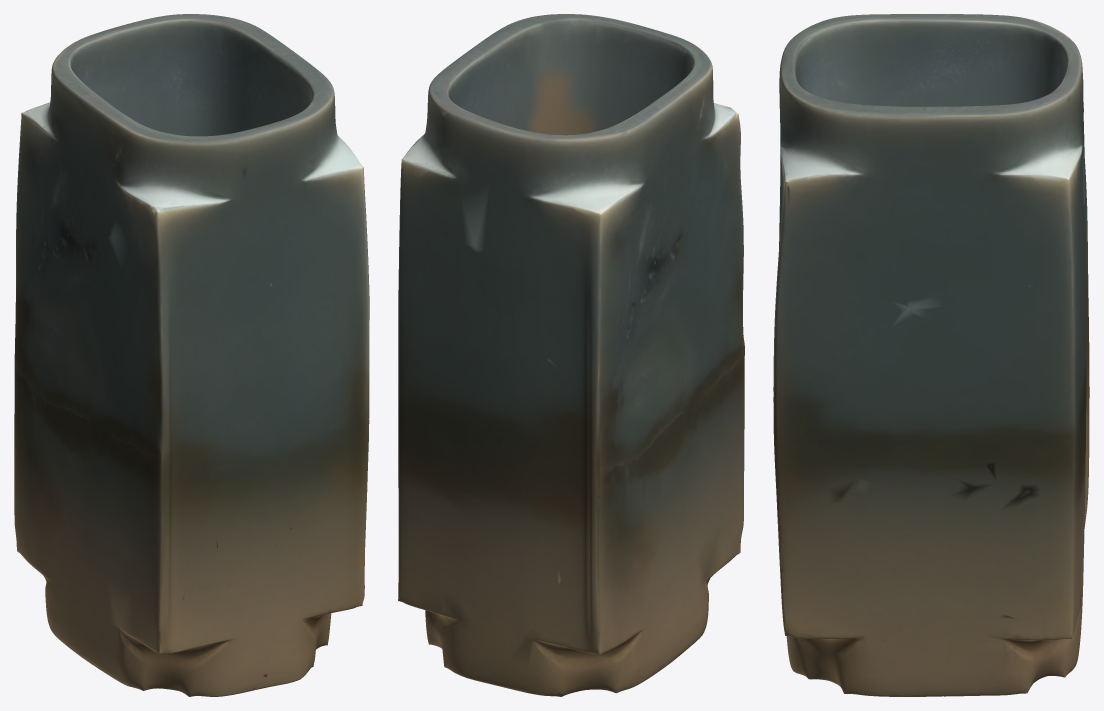
File: qijia-plain-detail.glb
3 renders of one model, left to right at view 1: azimuth 30°, elevation 25°; view 2: azimuth 150°, elevation 25°; view 3: azimuth 270°, elevation 25°, orthographic. The views are drawn at different scales.
Visible parts, largest first — view 1: node_0; view 2: node_0; view 3: node_0.
Part boxes in pixels (x1,y1,x2,y2): node_0: [14, 14, 369, 696]; node_0: [398, 14, 744, 696]; node_0: [773, 14, 1089, 696].
Bounding box in the file's own units: 0.4343 × 1.09 × 0.5287.
Materials: 1 (1 with a texture image).
